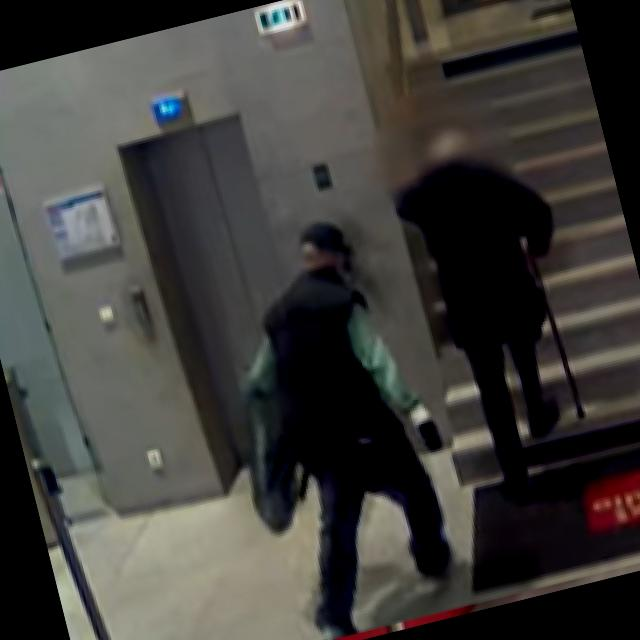person: (198, 212, 477, 640), (378, 106, 618, 507)
